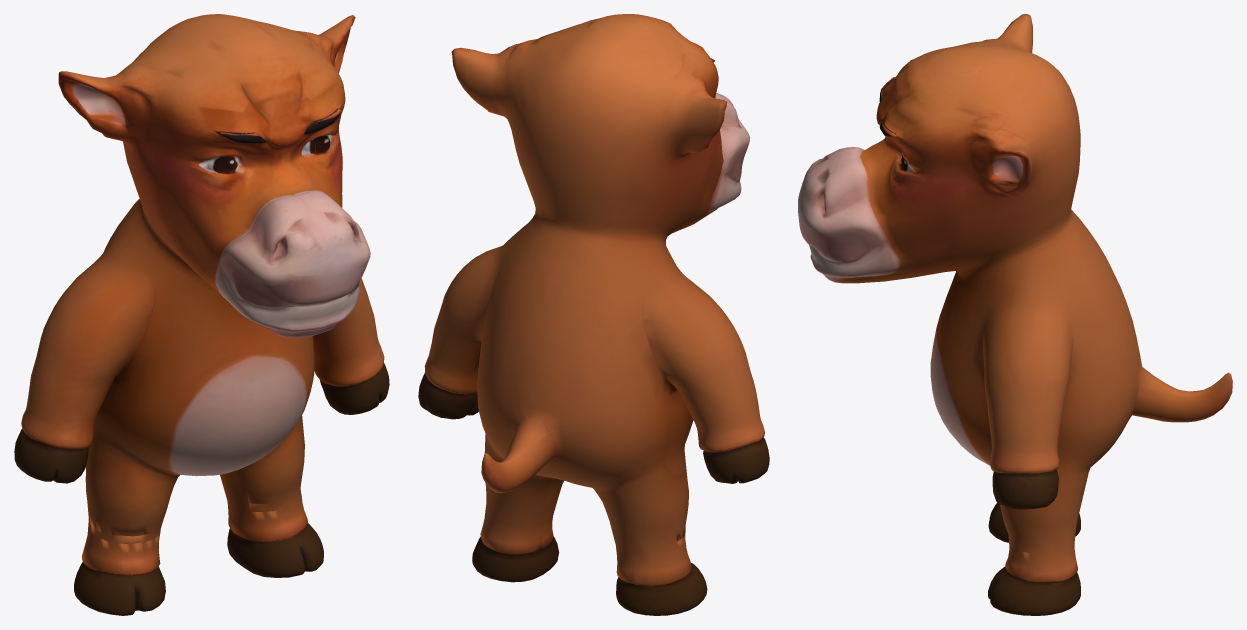
File: niulai.glb
3 views of the same model, side by side, from view 1: azimuth 30°, elevation 25°; view 2: azimuth 150°, elevation 25°; view 3: azimuth 270°, elevation 25° (orthographic). The views are drawn at different scales.
Visible parts, largest first — view 1: material; view 2: material; view 3: material.
Part boxes in pixels (left/top/right/bottom): material: left=14, top=14, right=389, bottom=615; material: left=418, top=14, right=769, bottom=615; material: left=798, top=14, right=1232, bottom=615.
Size of the model in its own units: 1.27 by 1.9 by 1.45.
Materials: 1 (1 with a texture image).
